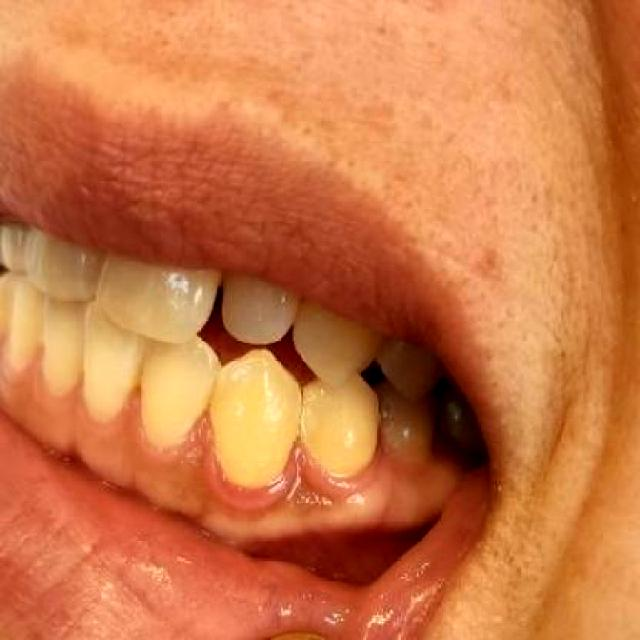Plaque: (186, 411, 398, 525)
